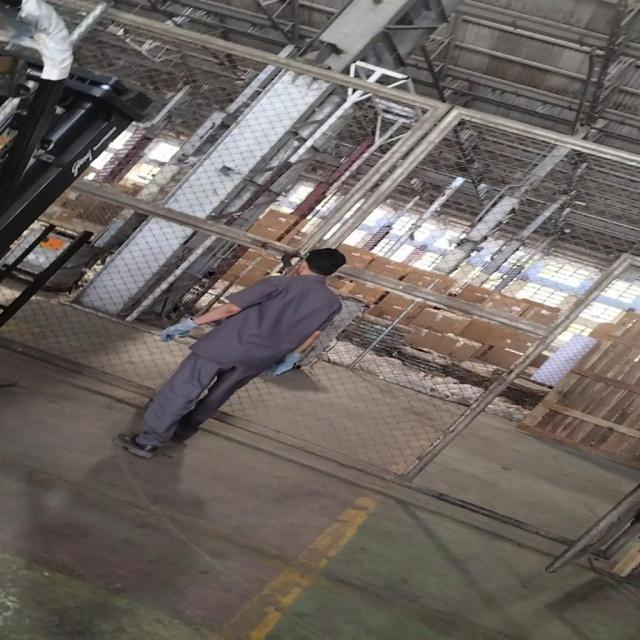Gloves-Detection: (148, 303, 206, 340), (275, 353, 297, 378)
